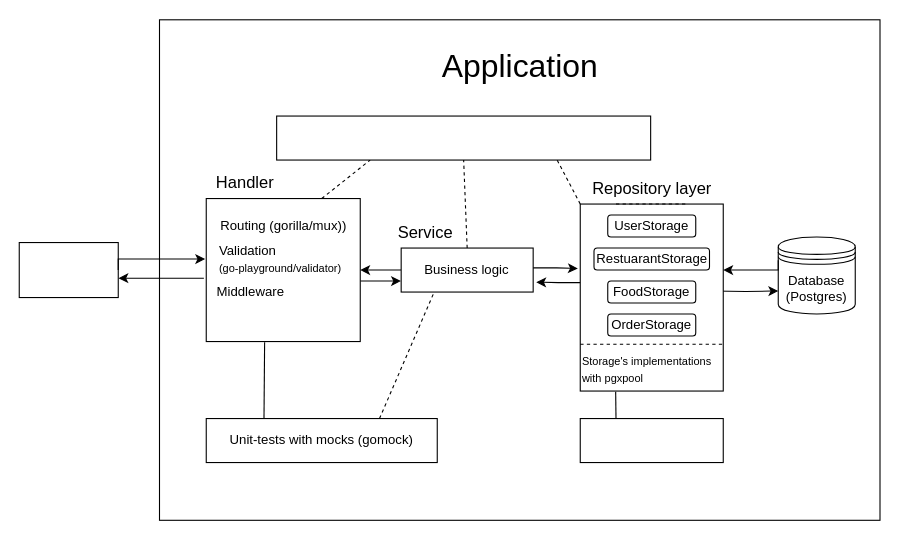
This 900x539 diagram has some shape labels left out. The box of each missing label's shape, as (x1, y1, x2, y2) in pixels:
Client application: (18, 241, 118, 298)
Models: (276, 115, 651, 160)
Unit tests: (579, 417, 723, 463)
